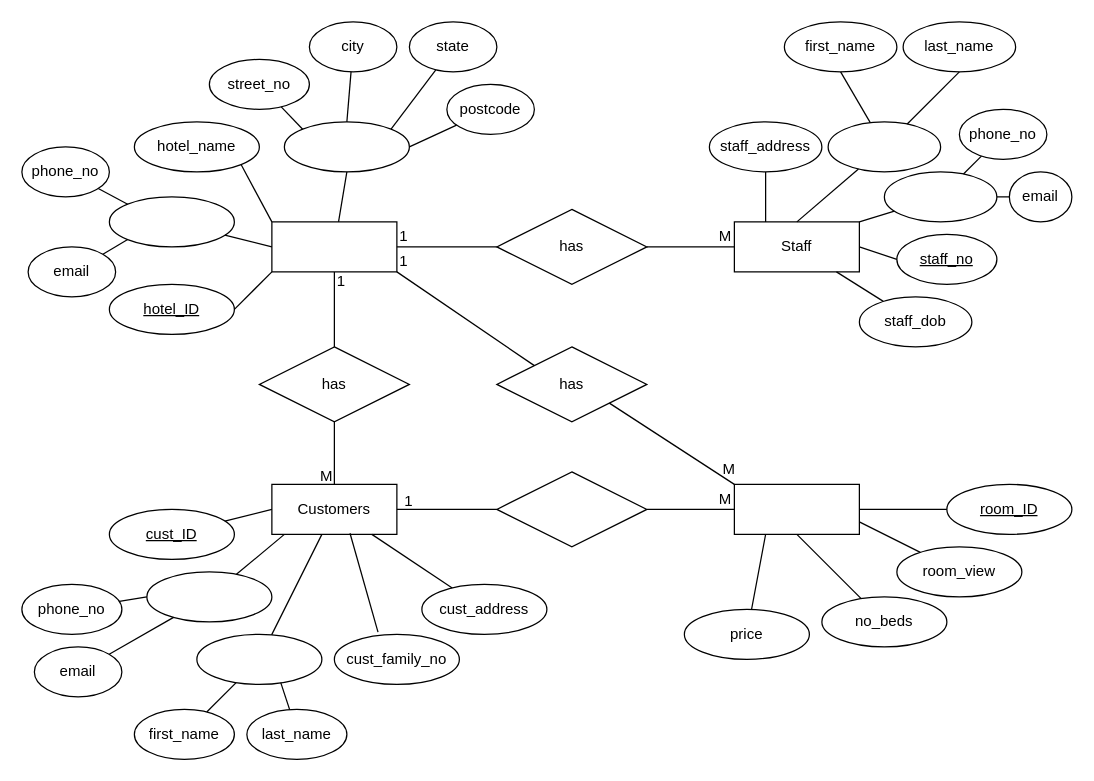
Image size: 1094x781. Some labels were removed from this diagram. The shapes that lost their labels are listed below. From the top down, each one's centre as x and y in pixels, then its label:
At point (346, 146): "hotel_address".
At point (884, 146): "staff_name".
At point (940, 196): "staff_contact".
At point (171, 221): "hotel_contact".
At point (334, 246): "Hotel".
At point (571, 509): "books".
At point (796, 508): "Rooms".
At point (209, 596): "cust_contact".
At point (259, 658): "cust_name".
